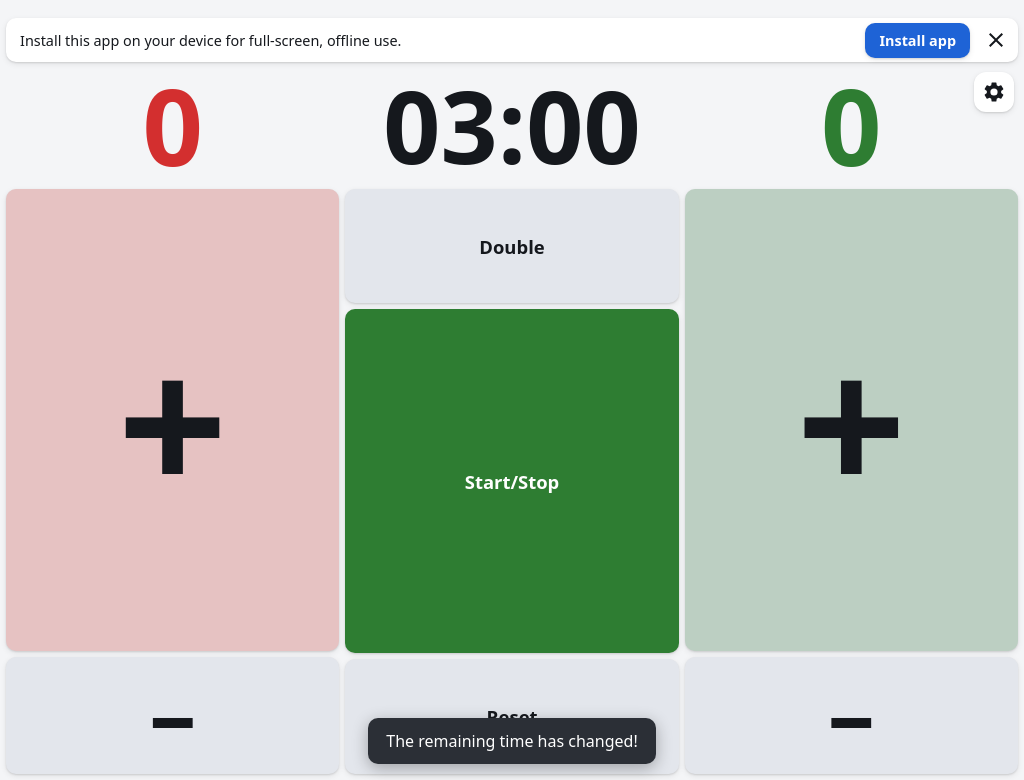
Test case: install banner › can be dismissed
Click the button named "Dismiss" at (996, 40), box [978,22,1014,58]
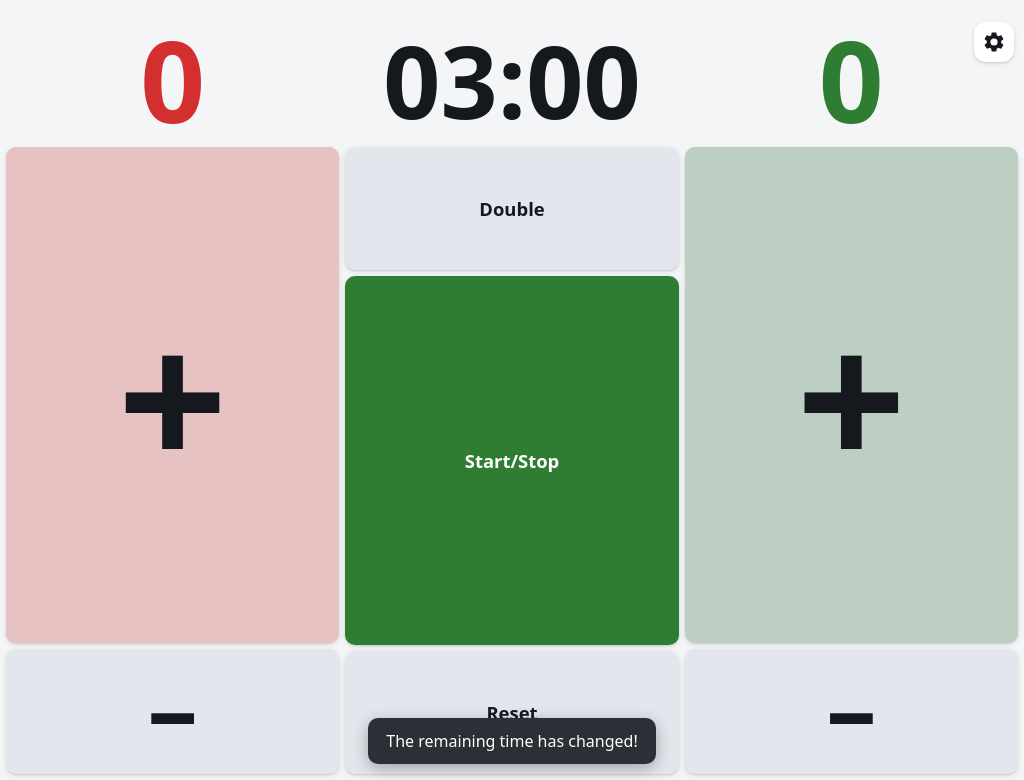
Expected: the text "Install this app on your device for full-screen, offline use." is gone
